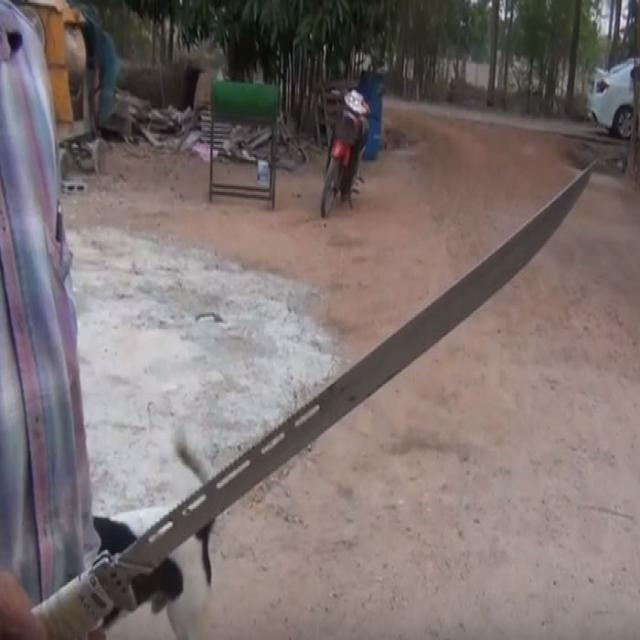long sword: (44, 142, 596, 628)
